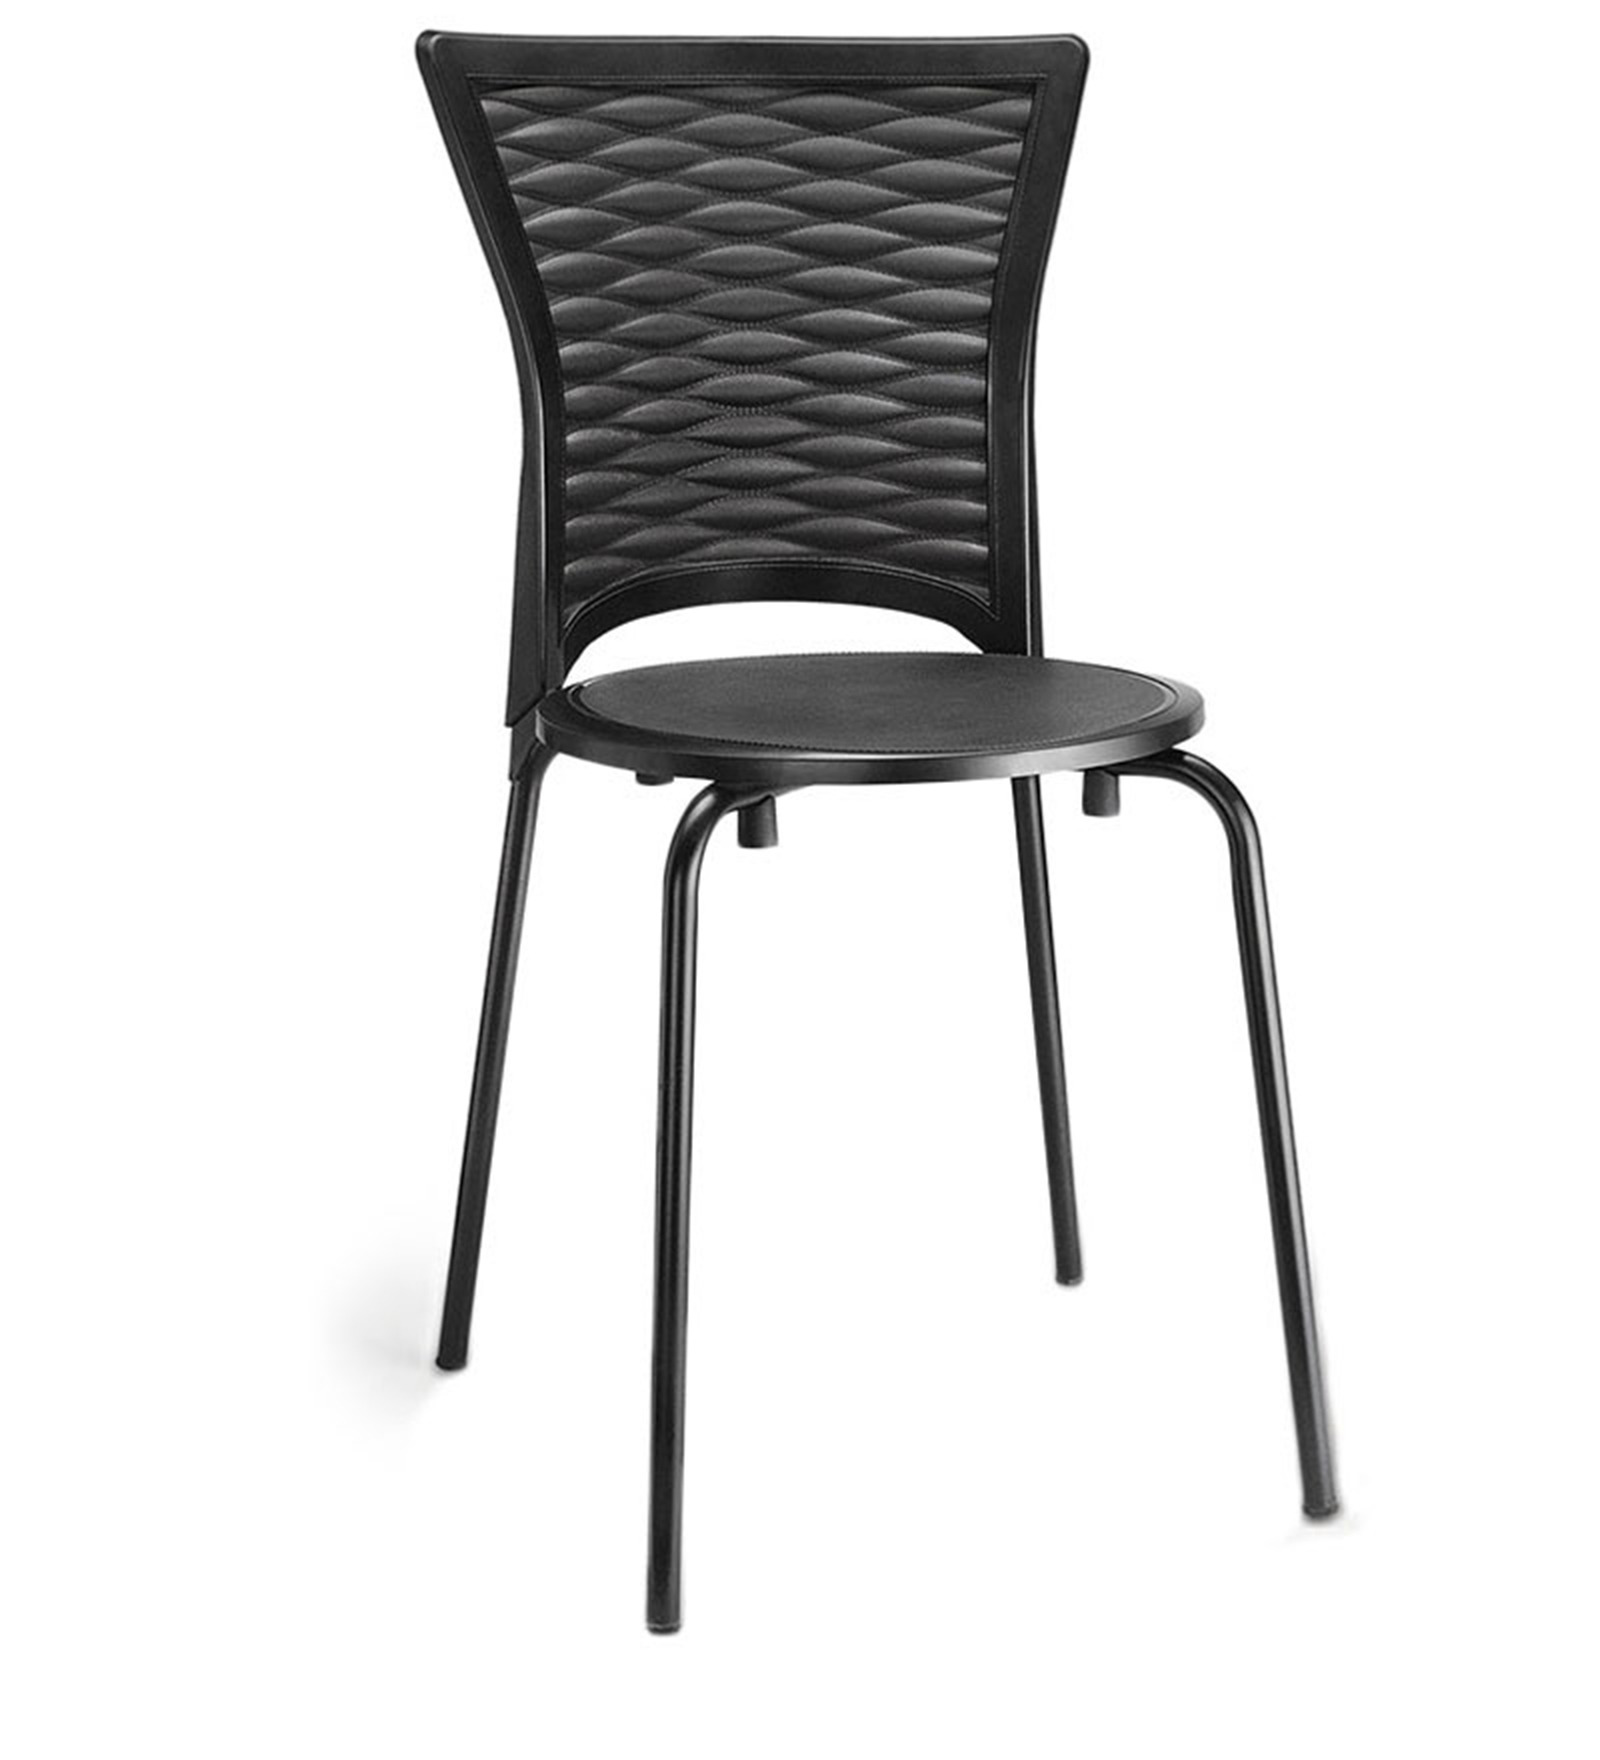Novella Plastic Chair in Black Colour by Nilkamal: (403, 25, 1353, 1640)
